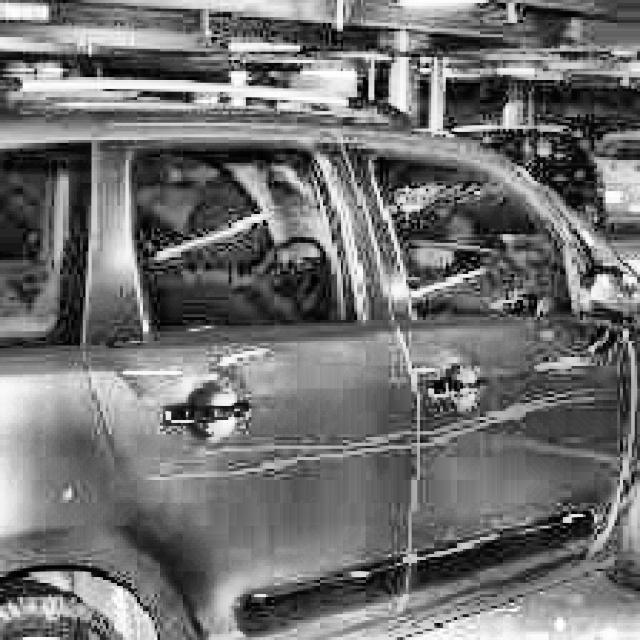door_scratch: (184, 422, 520, 468)
